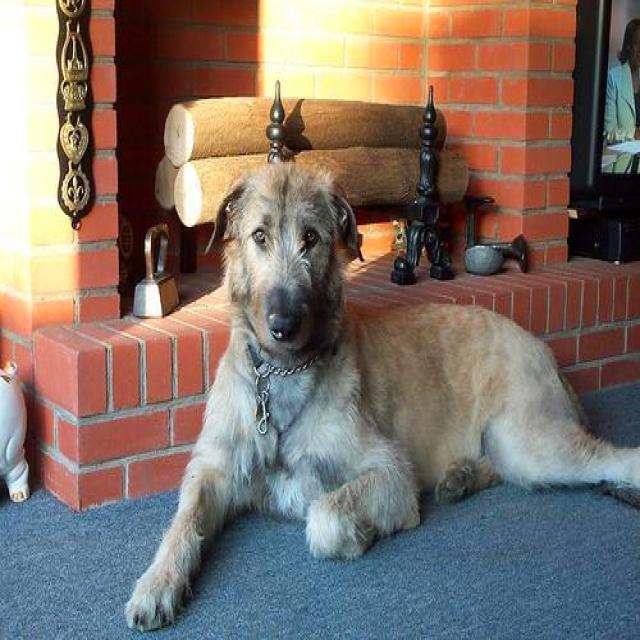irish_wolfhound: (122, 160, 638, 630)
